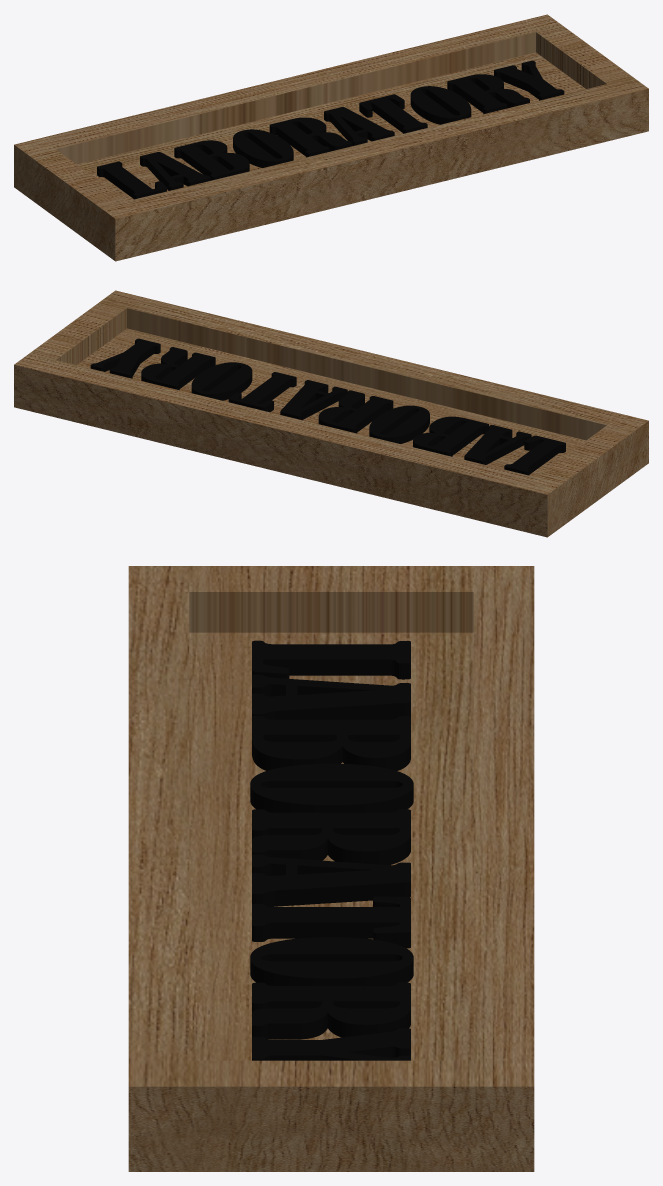
File: Laboratory Door Sign.fbx
3 renders of one model, top to bottom at view 1: azimuth 30°, elevation 25°; view 2: azimuth 150°, elevation 25°; view 3: azimuth 270°, elevation 25°, orthographic. The views are drawn at different scales.
Parts seen in each view (by area): view 1: Cube, Name; view 2: Cube, Name; view 3: Cube, Name.
Boxes of the visible parts, <box> form: Cube: <box>14,14,648,261</box>; Name: <box>97,60,564,199</box>; Cube: <box>14,290,648,537</box>; Name: <box>90,338,565,475</box>; Cube: <box>128,566,534,1171</box>; Name: <box>250,640,413,1060</box>.
Bounding box in the file's own units: 607 × 46.32 × 200.
Materials: 2 (1 with a texture image).
